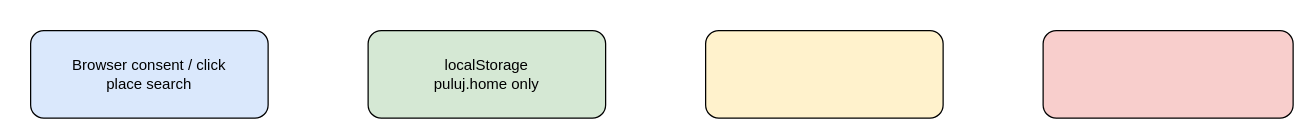
Image size: 1315x140. Some labels were removed from this diagram. Here are the shapes that lost their labels. From the top down, the centre of each, then its label:
the point at 823,73: Client computeEta range / confidence
the point at 1167,73: Server API / SignalR no home coordinates
